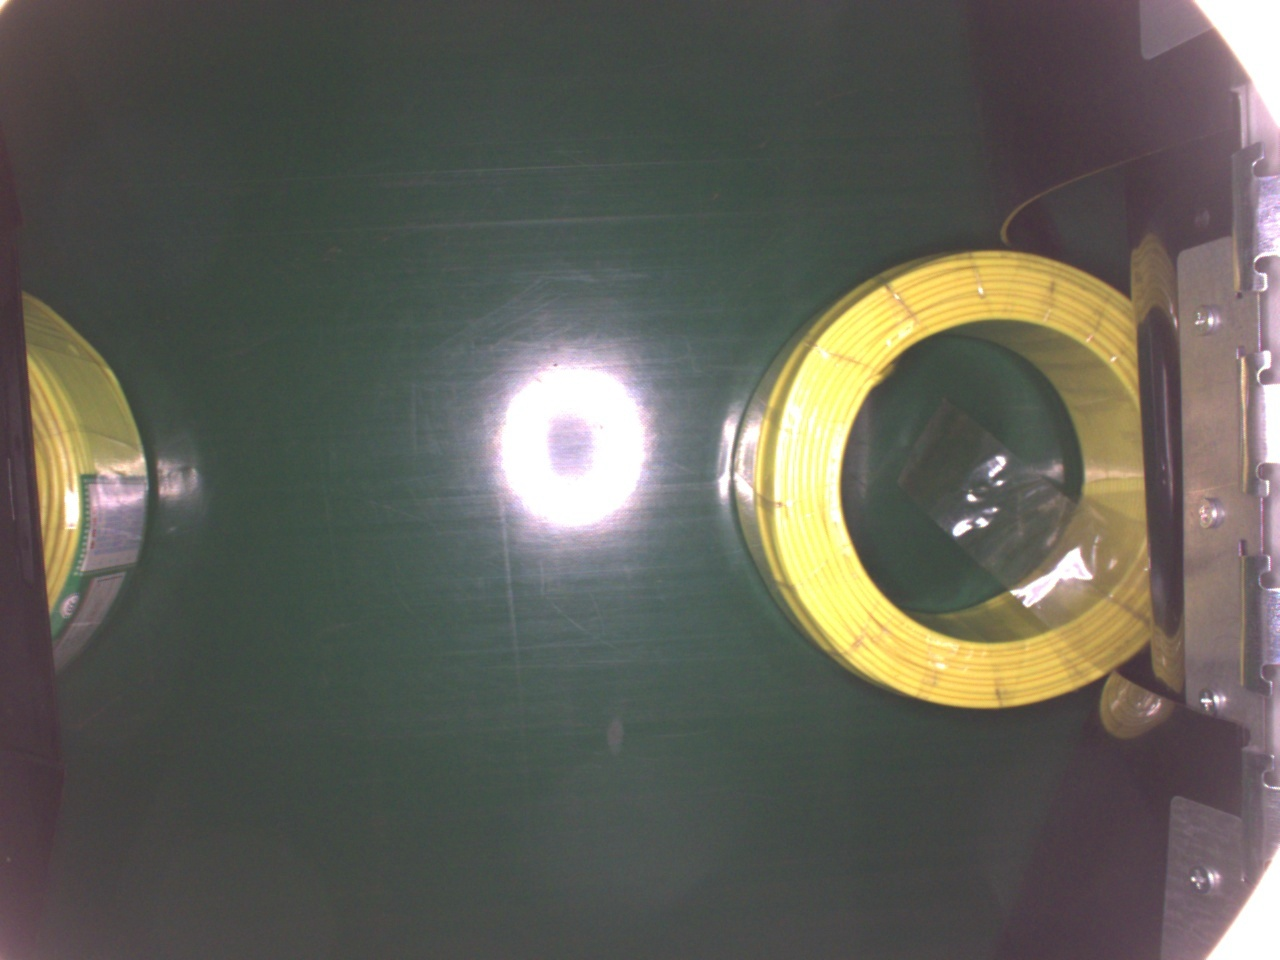yellow: (735, 244, 1151, 707), (23, 289, 150, 678)
